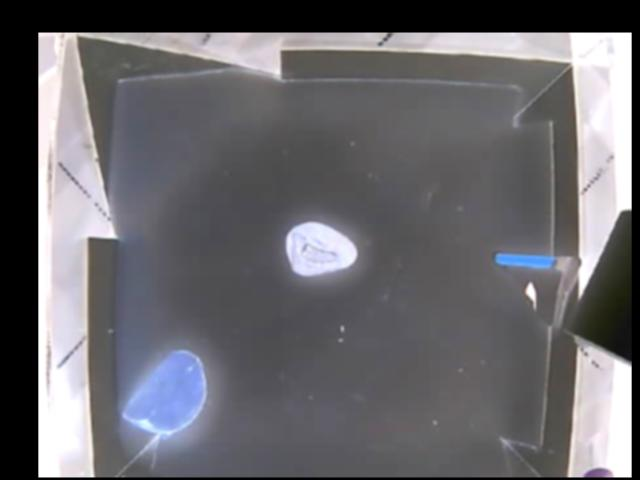China: (496, 255, 579, 329)
Pebble: (283, 221, 360, 275)
Potato: (120, 346, 209, 434)
